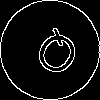Q: (25, 25, 85, 87)
